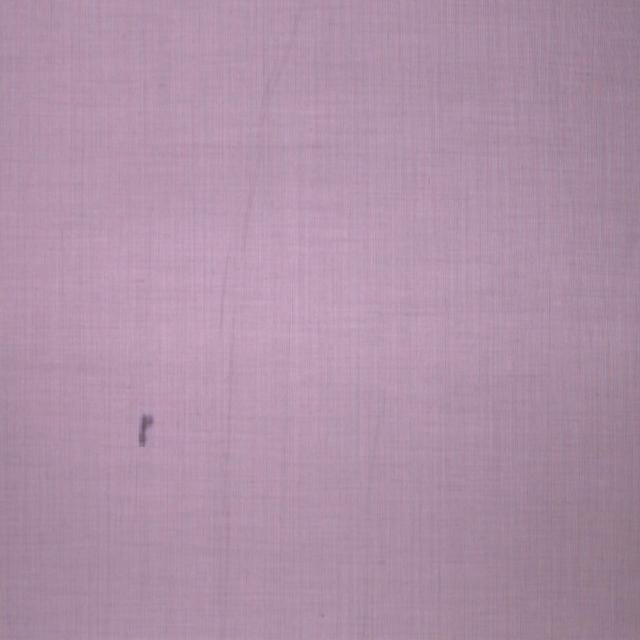dirty: (138, 412, 155, 452)
